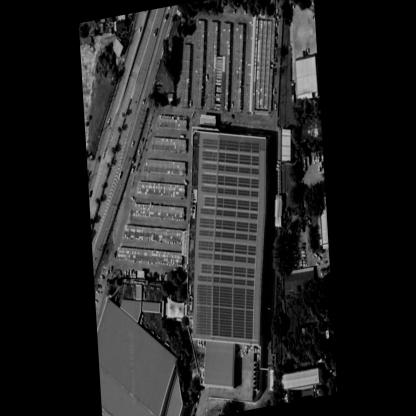solar-pv-panel: (196, 306, 254, 340), (196, 284, 255, 309), (199, 218, 258, 234), (198, 239, 257, 255), (201, 173, 259, 189), (201, 263, 255, 280), (204, 196, 258, 212), (202, 151, 259, 166), (202, 139, 260, 153), (200, 185, 259, 197), (197, 275, 255, 287), (202, 162, 259, 174), (200, 208, 258, 219), (199, 230, 257, 241), (198, 252, 256, 262)
